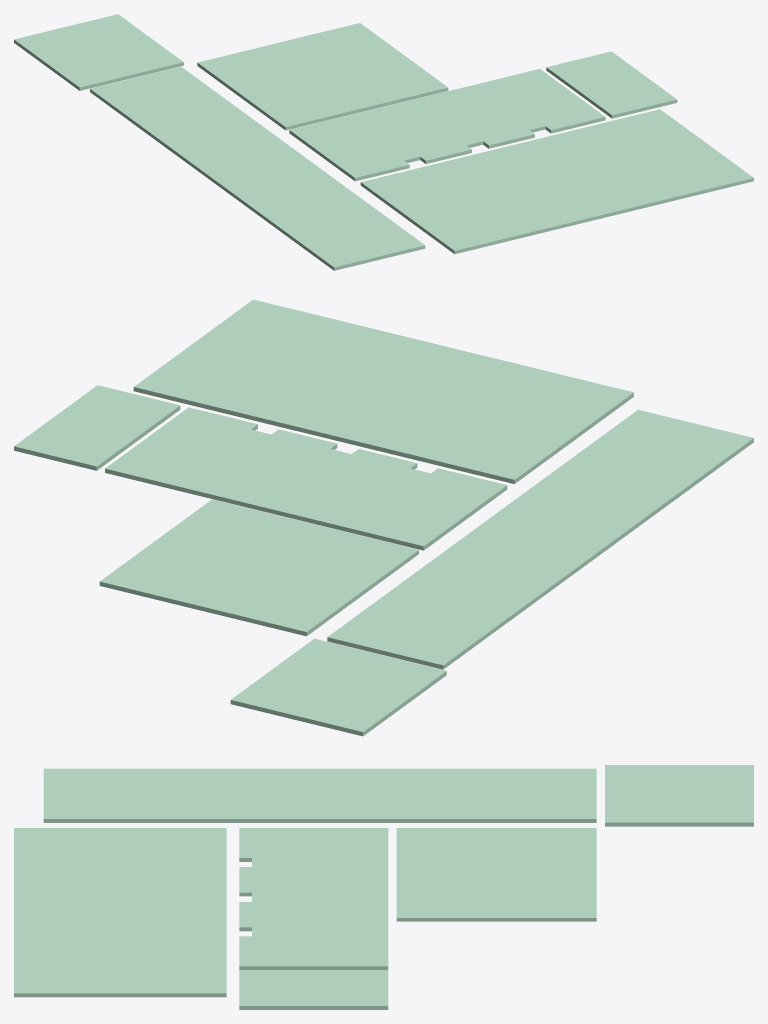
File: Ceiling.fbx
3 renders of one model, top to bottom at view 1: azimuth 30°, elevation 25°; view 2: azimuth 150°, elevation 25°; view 3: azimuth 270°, elevation 25°, orthographic. The views are drawn at different scales.
Parts seen in each view (by area): view 1: Hallway_Ceiling, Living Room_ceiling, Kitchen_Ceiling, Bedroom_Ceiling, Bathroom_Ceiling; view 2: Hallway_Ceiling, Living Room_ceiling, Kitchen_Ceiling, Bedroom_Ceiling, Bathroom_Ceiling; view 3: Hallway_Ceiling, Living Room_ceiling, Kitchen_Ceiling, Bedroom_Ceiling, Bathroom_Ceiling.
Boxes of the visible parts, x1=… form: Hallway_Ceiling: x1=90, y1=66, x2=605, y2=270; Living Room_ceiling: x1=360, y1=109, x2=753, y2=254; Kitchen_Ceiling: x1=197, y1=23, x2=448, y2=130; Bedroom_Ceiling: x1=14, y1=14, x2=183, y2=90; Bathroom_Ceiling: x1=546, y1=51, x2=677, y2=118; Hallway_Ceiling: x1=105, y1=407, x2=753, y2=669; Living Room_ceiling: x1=133, y1=299, x2=633, y2=483; Kitchen_Ceiling: x1=99, y1=499, x2=418, y2=636; Bedroom_Ceiling: x1=230, y1=638, x2=446, y2=736; Bathroom_Ceiling: x1=14, y1=385, x2=180, y2=470; Hallway_Ceiling: x1=43, y1=768, x2=596, y2=969; Living Room_ceiling: x1=14, y1=828, x2=226, y2=997; Kitchen_Ceiling: x1=396, y1=828, x2=596, y2=921; Bedroom_Ceiling: x1=605, y1=765, x2=753, y2=826; Bathroom_Ceiling: x1=239, y1=970, x2=388, y2=1009.
Bounding box in the file's own units: 1740 × 1340 × 10.
